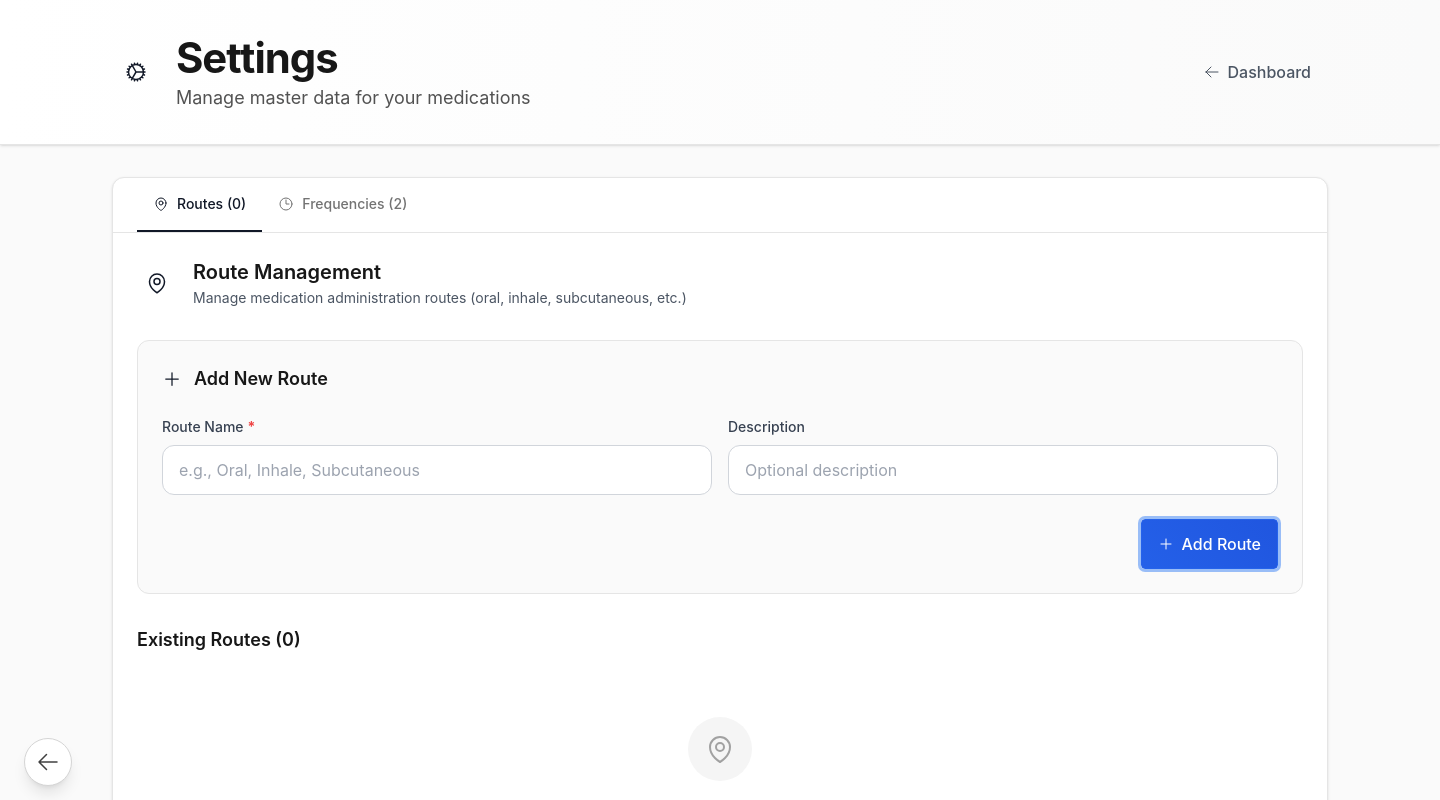
Scenario: Settings Component › Frequency Management › validates frequency form with required fields
The width and height of the screenshot is (1440, 800).
Click the button "Frequencies (2)" at [343, 205], box 262,178 -> 423,232
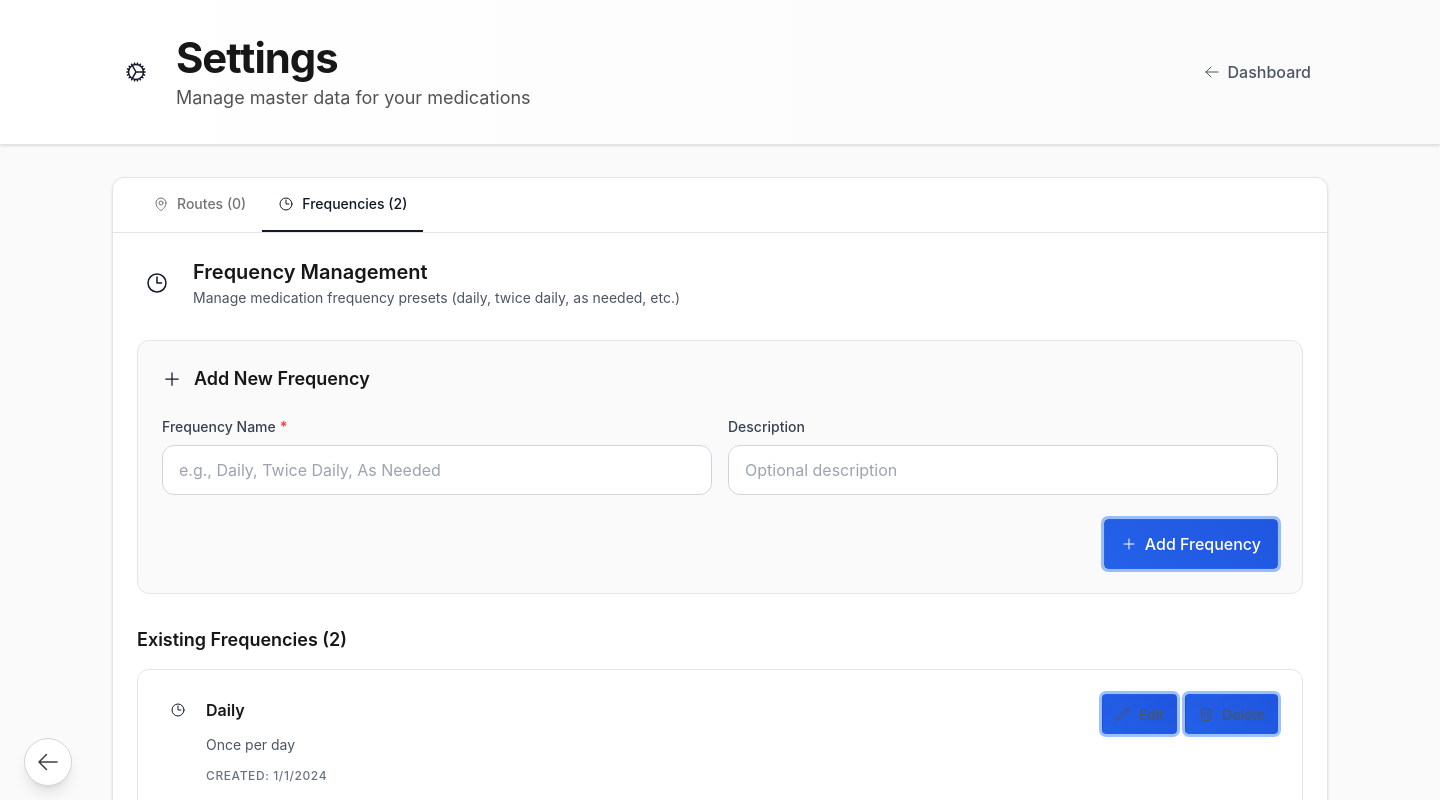
Expected: the heading "Add New Frequency" is shown, 194,365 -> 370,392
# Try to submit empty form
Click the button "Add Frequency" at [1191, 544], box 1104,519 -> 1278,569
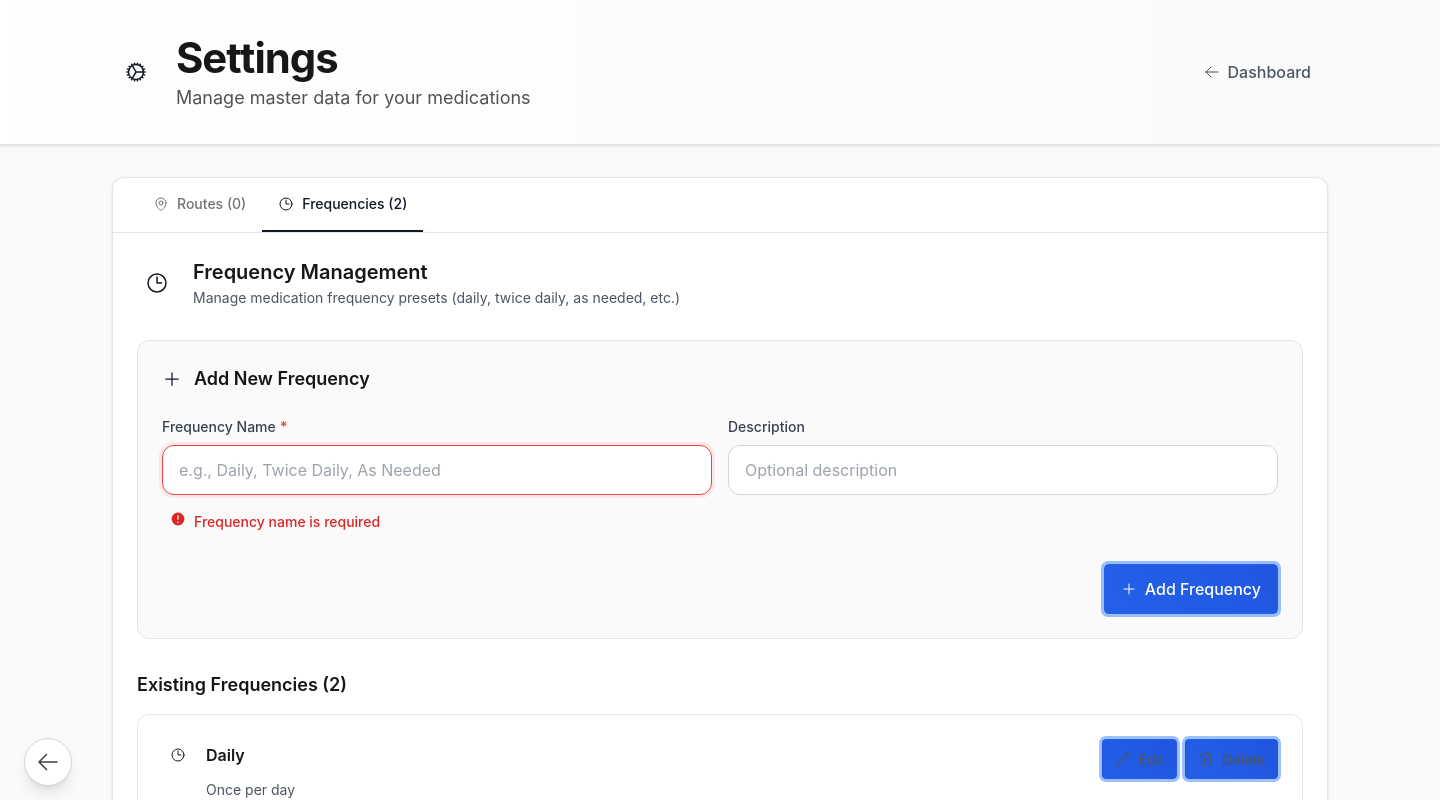
Expected: the text "Frequency name is required" is shown, 194,511 -> 380,532
